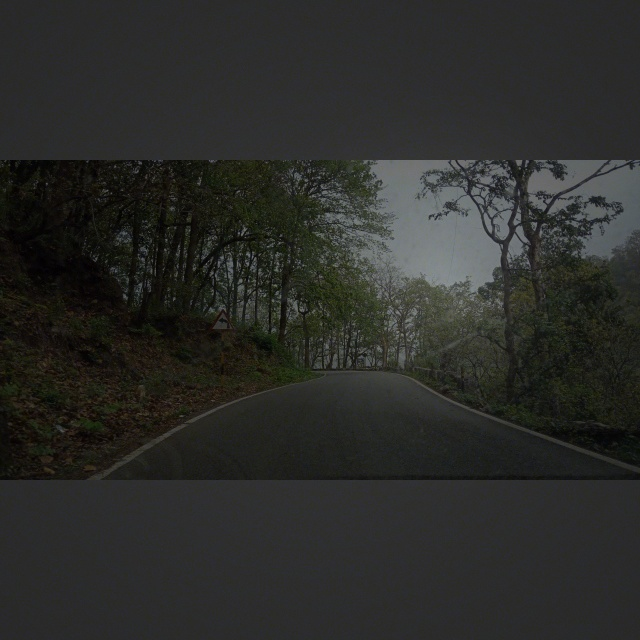Left_Hand_Curve: (210, 306, 235, 337)
